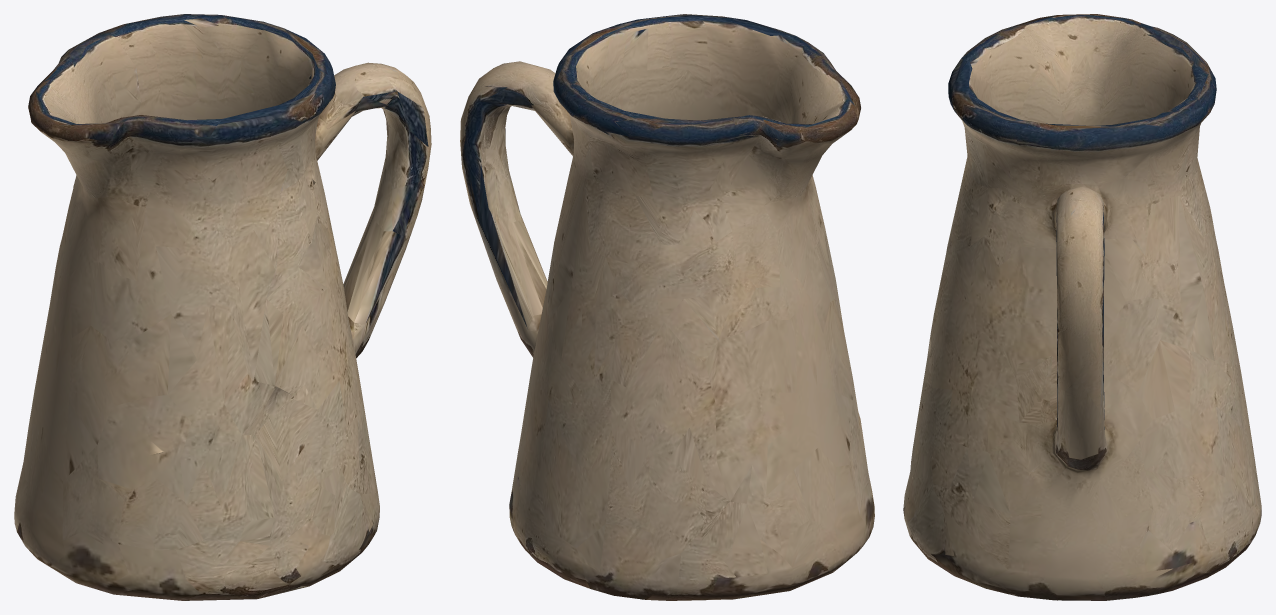
File: k_jug_milk.glb
3 views of the same model, side by side, from view 1: azimuth 30°, elevation 25°; view 2: azimuth 150°, elevation 25°; view 3: azimuth 270°, elevation 25° (orthographic). The views are drawn at different scales.
Parts seen in each view (by area): view 1: k_jug_milk; view 2: k_jug_milk; view 3: k_jug_milk.
Boxes of the visible parts, x1=… form: k_jug_milk: x1=14, y1=14, x2=431, y2=600; k_jug_milk: x1=460, y1=14, x2=874, y2=600; k_jug_milk: x1=903, y1=14, x2=1261, y2=600.
Bounding box in the file's own units: 0.2276 × 0.26 × 0.1857.
Materials: 1 (1 with a texture image).
